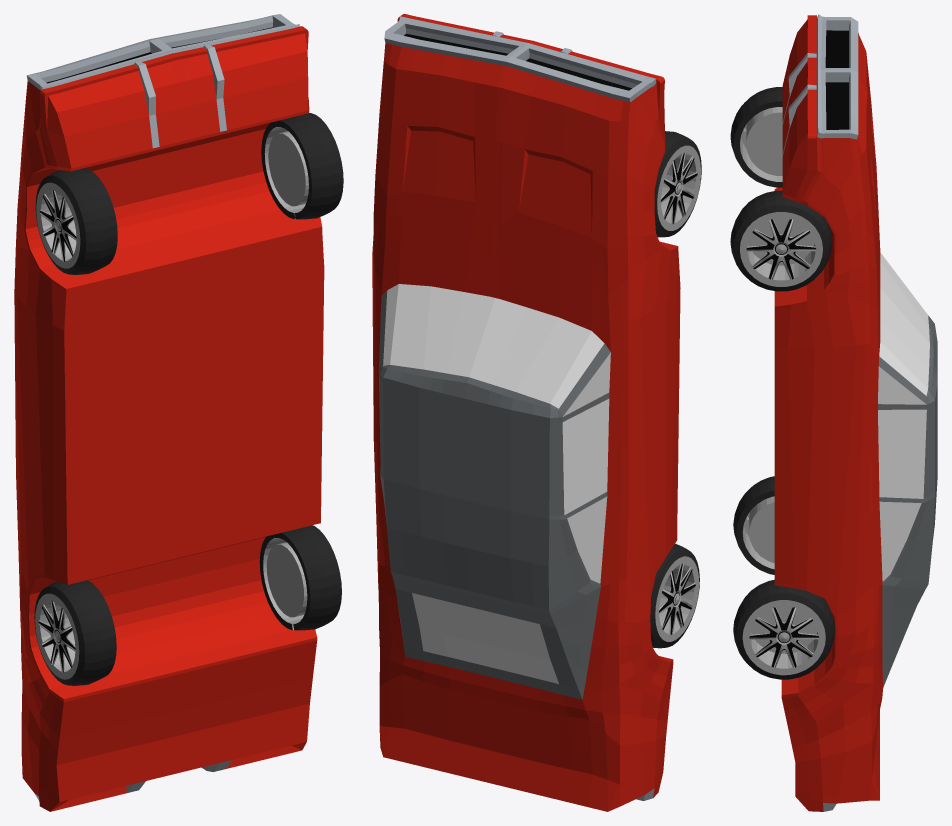
The model's file is Dodge Charger.gltf.
The picture shows the model from 3 angles, left to right: view 1: azimuth 30°, elevation 25°; view 2: azimuth 150°, elevation 25°; view 3: azimuth 270°, elevation 25°; orthographic projection. The views are drawn at different scales.
Parts seen in each view (by area): view 1: imagetostl_mesh13, imagetostl_mesh15, imagetostl_mesh6, imagetostl_mesh9, imagetostl_mesh3, imagetostl_mesh2, imagetostl_mesh0, imagetostl_mesh4, imagetostl_mesh7, imagetostl_mesh10, imagetostl_mesh8, imagetostl_mesh11; view 2: imagetostl_mesh13, imagetostl_mesh12, imagetostl_mesh17, imagetostl_mesh15, imagetostl_mesh7, imagetostl_mesh10, imagetostl_mesh9, imagetostl_mesh6, imagetostl_mesh14, imagetostl_mesh8, imagetostl_mesh11; view 3: imagetostl_mesh13, imagetostl_mesh17, imagetostl_mesh12, imagetostl_mesh0, imagetostl_mesh4, imagetostl_mesh15, imagetostl_mesh3, imagetostl_mesh2, imagetostl_mesh7, imagetostl_mesh14, imagetostl_mesh10, imagetostl_mesh6 (+3 smaller).
Boxes of the visible parts, x1,y1,x2,y2 form: imagetostl_mesh13: (14, 26, 324, 811); imagetostl_mesh15: (26, 14, 299, 800); imagetostl_mesh6: (35, 168, 117, 274); imagetostl_mesh9: (34, 580, 116, 685); imagetostl_mesh3: (261, 112, 343, 219); imagetostl_mesh2: (259, 525, 341, 630); imagetostl_mesh0: (263, 538, 307, 630); imagetostl_mesh4: (264, 127, 308, 219); imagetostl_mesh7: (36, 182, 80, 268); imagetostl_mesh10: (35, 593, 79, 679); imagetostl_mesh8: (39, 189, 76, 261); imagetostl_mesh11: (38, 600, 75, 672); imagetostl_mesh13: (372, 14, 680, 811); imagetostl_mesh12: (378, 290, 610, 699); imagetostl_mesh17: (383, 284, 610, 683); imagetostl_mesh15: (384, 16, 656, 800); imagetostl_mesh7: (657, 145, 700, 230); imagetostl_mesh10: (655, 556, 699, 641); imagetostl_mesh9: (650, 543, 699, 648); imagetostl_mesh6: (654, 131, 701, 237); imagetostl_mesh14: (404, 33, 631, 90); imagetostl_mesh8: (660, 152, 697, 224); imagetostl_mesh11: (659, 563, 695, 634); imagetostl_mesh13: (774, 15, 883, 811); imagetostl_mesh17: (878, 252, 929, 581); imagetostl_mesh12: (878, 315, 937, 686); imagetostl_mesh0: (742, 600, 825, 675); imagetostl_mesh4: (740, 212, 822, 286); imagetostl_mesh15: (782, 14, 858, 811); imagetostl_mesh3: (730, 190, 832, 291); imagetostl_mesh2: (733, 579, 835, 679); imagetostl_mesh7: (740, 107, 782, 181); imagetostl_mesh14: (825, 30, 848, 129); imagetostl_mesh10: (742, 496, 774, 569); imagetostl_mesh6: (730, 87, 782, 187).
Bounding box in the file's own units: 2.56 × 6.48 × 1.77.
